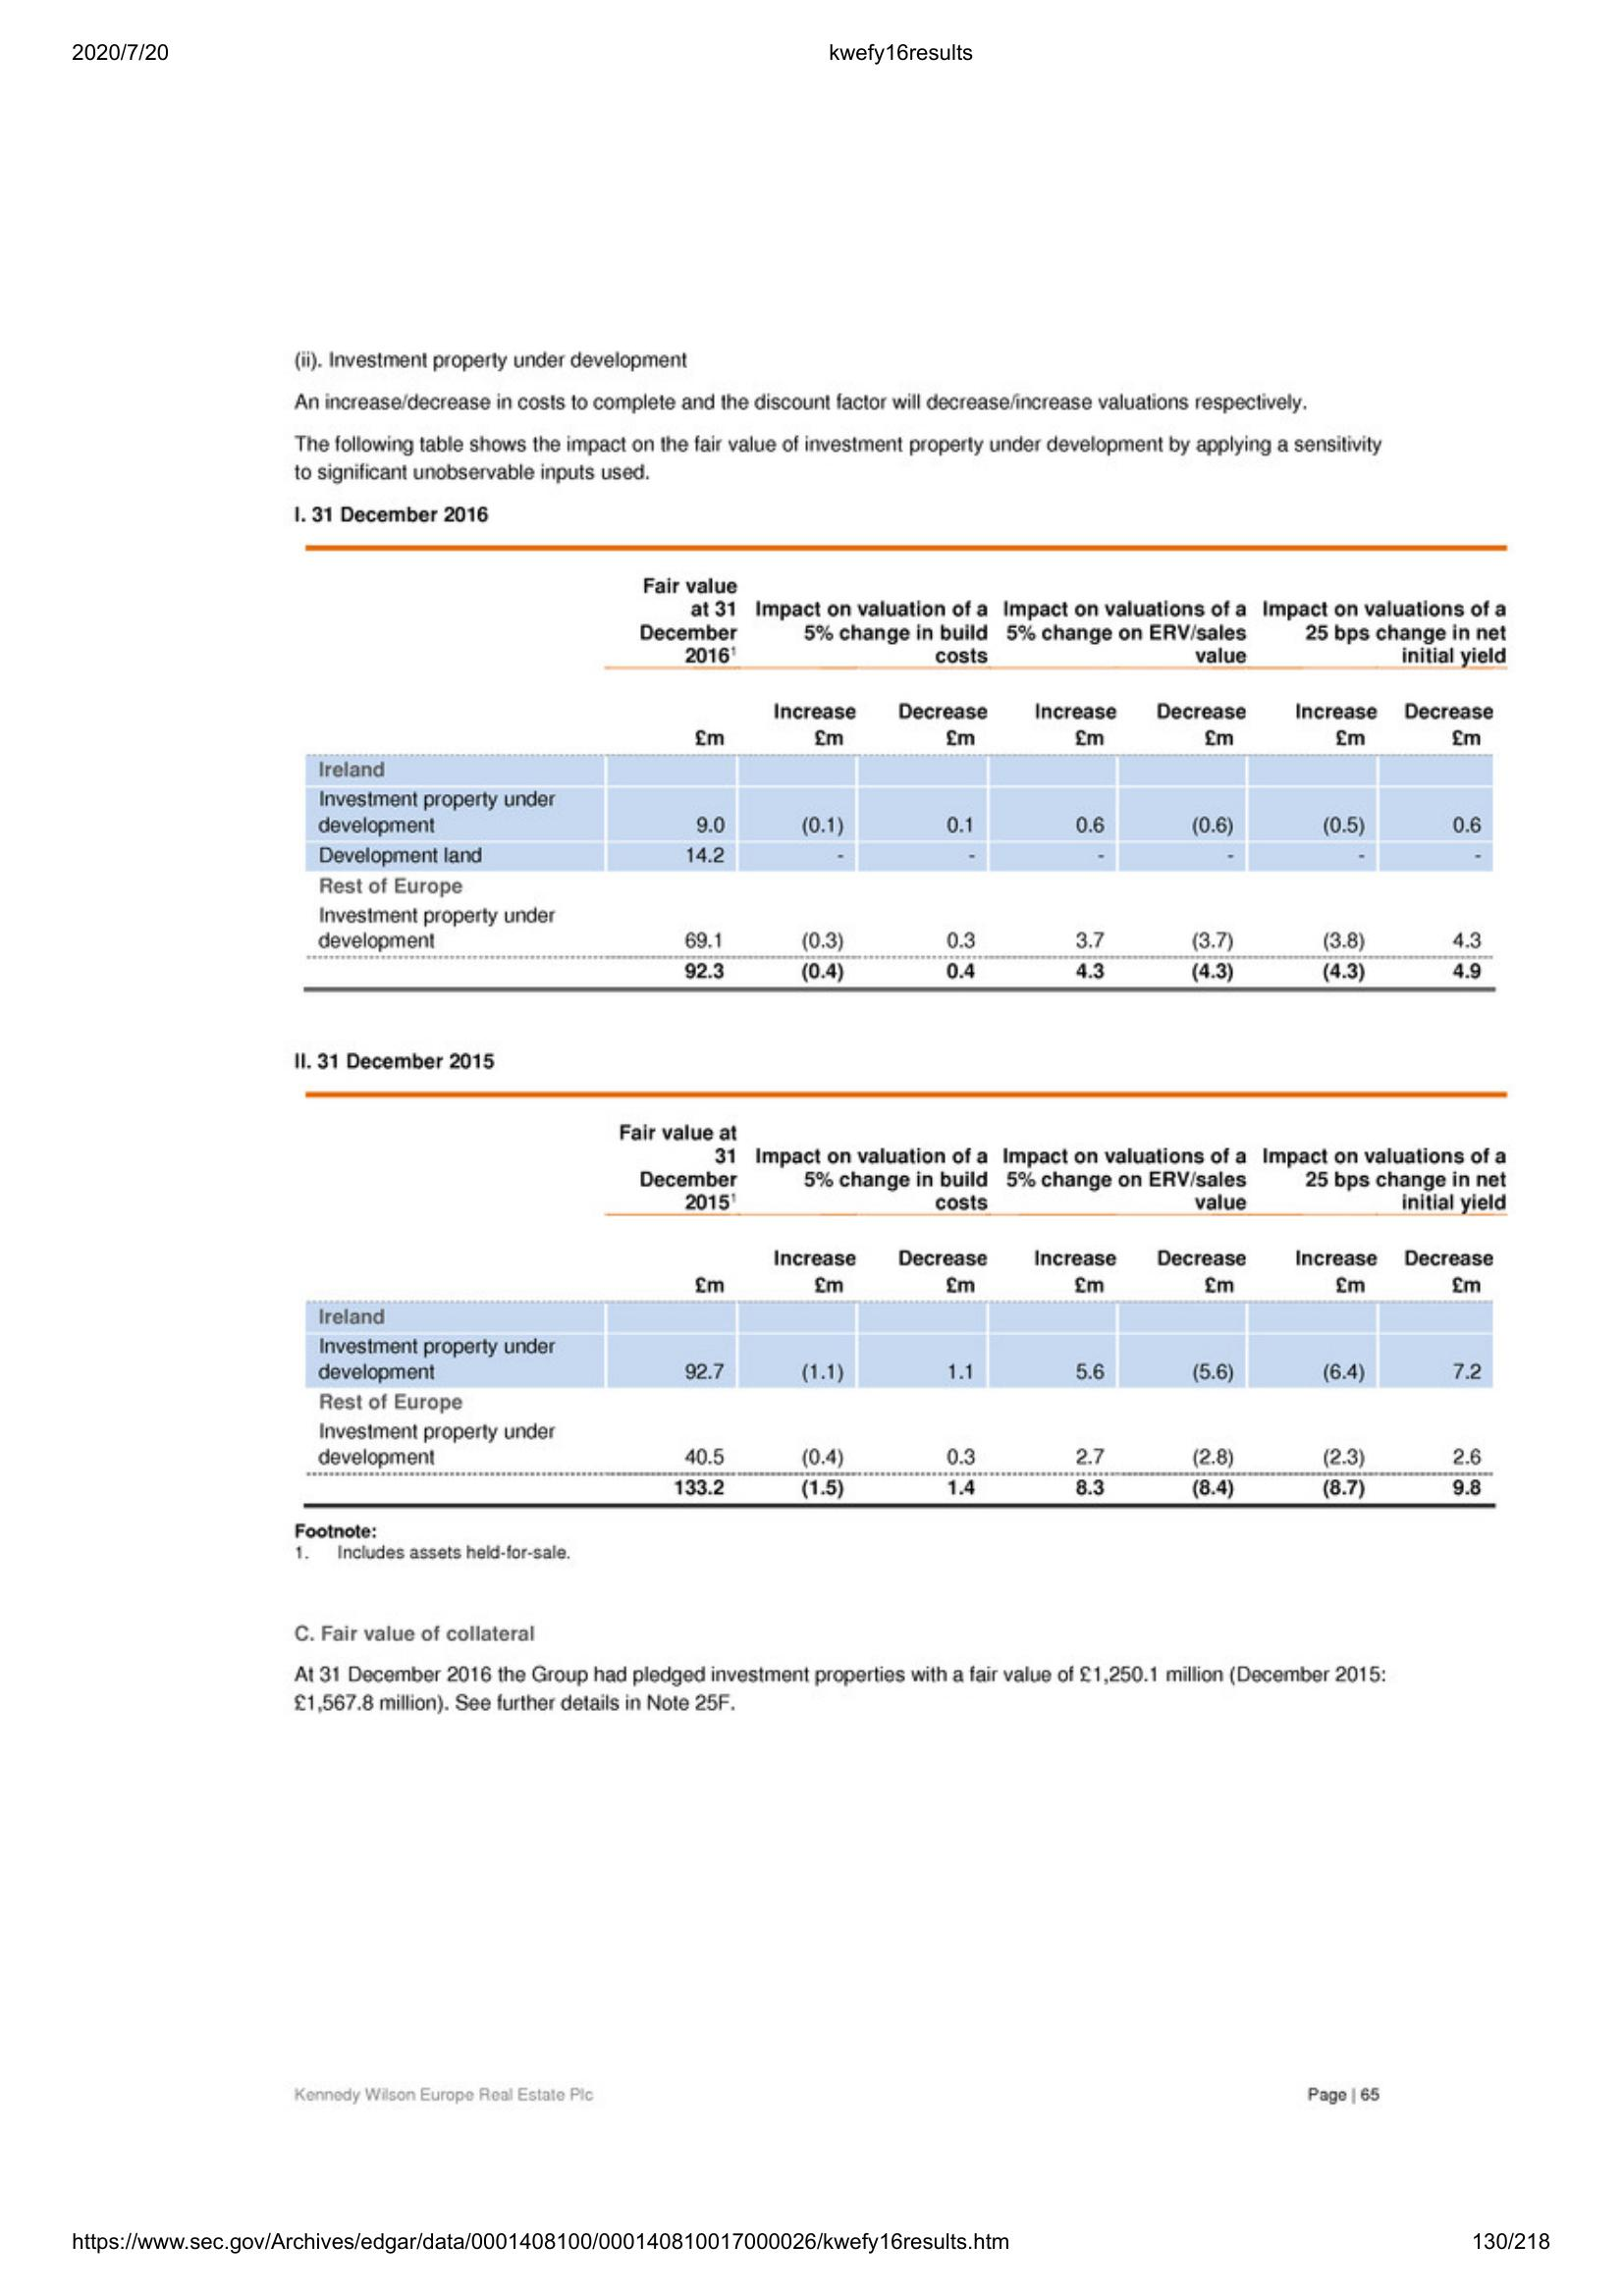table: (302, 541, 1504, 1002), (293, 1080, 1509, 1515)
